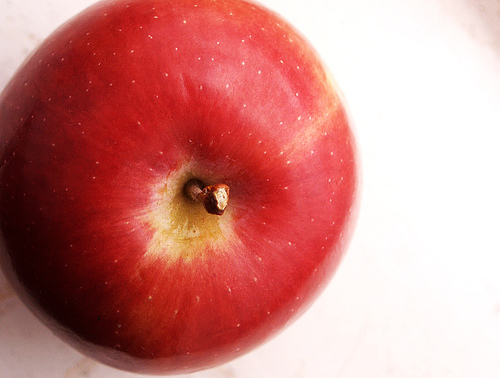apple: (0, 0, 364, 376)
